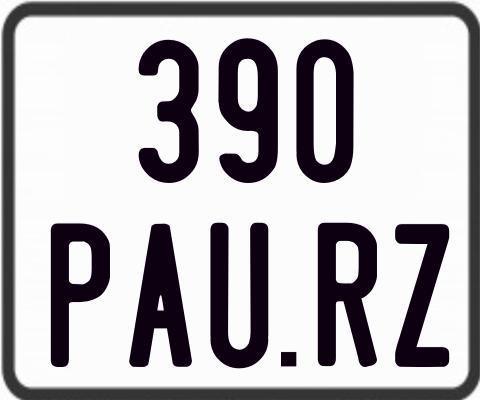0: (294, 38, 358, 188)
3: (136, 39, 200, 186)
9: (217, 38, 283, 189)
A: (126, 224, 191, 369)
P: (50, 220, 114, 365)
R: (317, 221, 378, 366)
U: (208, 223, 271, 371)
Z: (392, 222, 447, 366)
